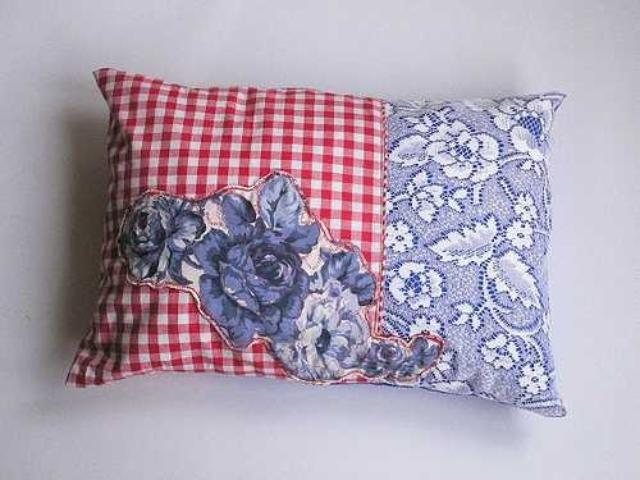pillow: (64, 65, 568, 417)
